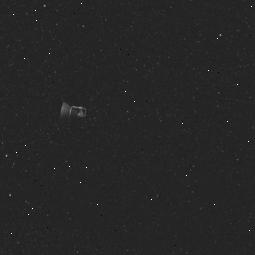debris: (55, 98, 92, 126)
